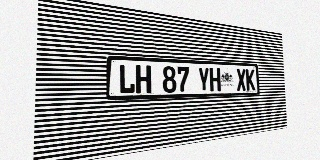7: (176, 66, 190, 92)
8: (162, 66, 176, 93)
H: (136, 65, 151, 93), (209, 68, 221, 91)
K: (246, 69, 255, 90)
L: (118, 64, 135, 94)
X: (236, 69, 246, 91)
Y: (198, 67, 210, 92)
